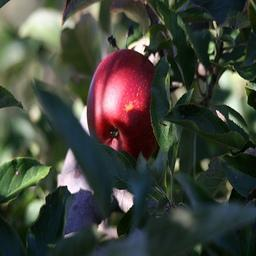apple: (85, 49, 159, 165)
